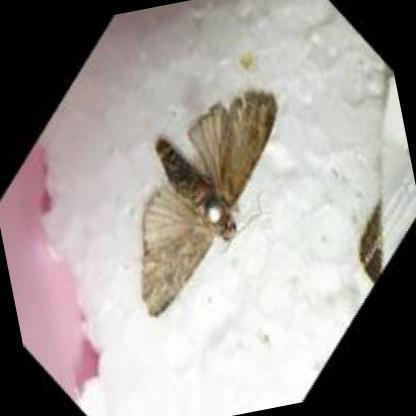Leaf Webber: (135, 86, 280, 320)
